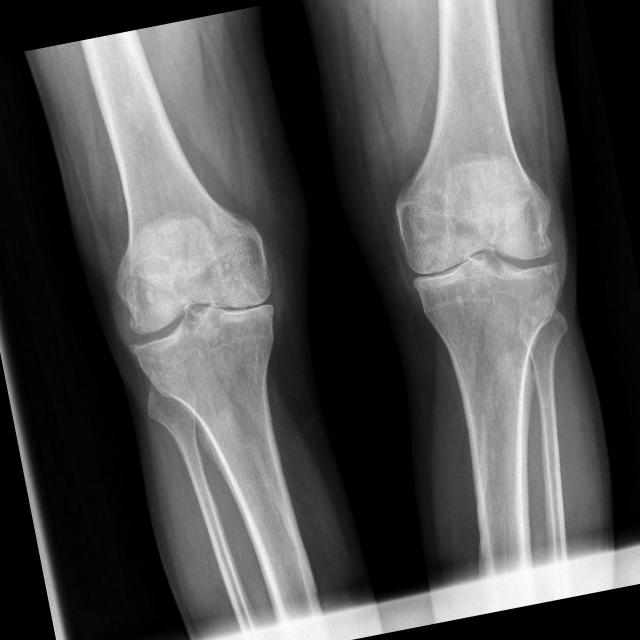Knee: (387, 158, 576, 352), (104, 214, 292, 406)
